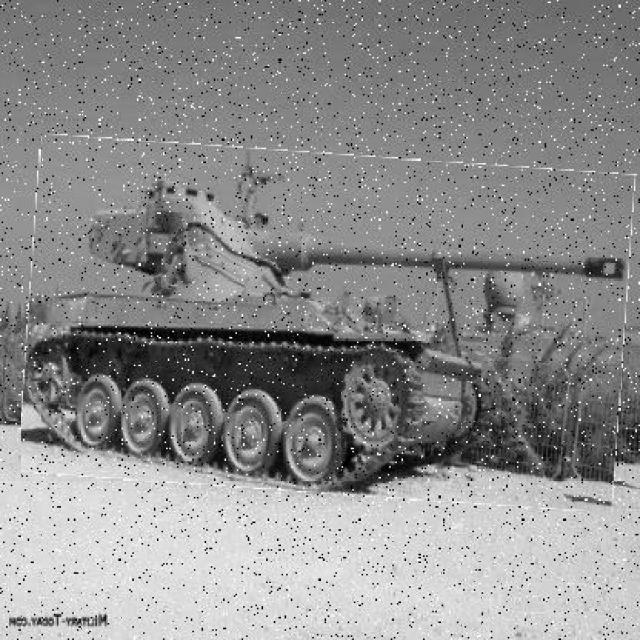Tank: (26, 144, 632, 504)
